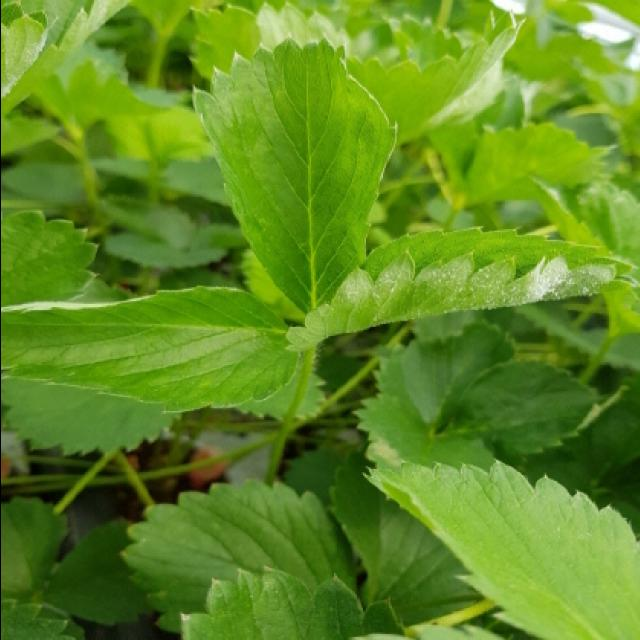Powdery Mildew Leaf: (283, 226, 640, 352)
